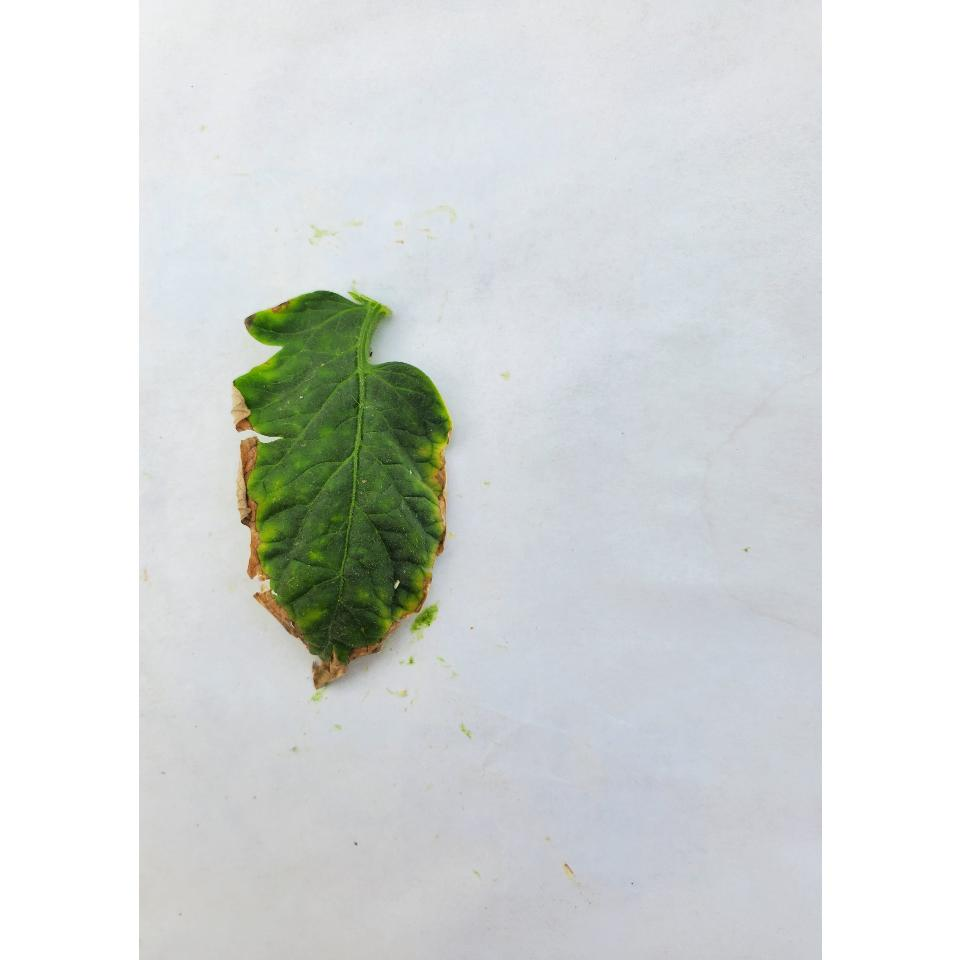tomato_bacterial_blight: (241, 276, 462, 700)
